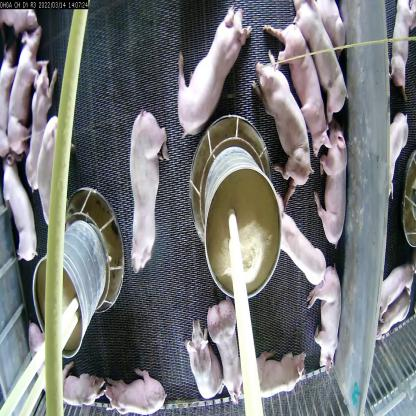Pig: (176, 0, 253, 137), (265, 10, 331, 154), (253, 41, 312, 188), (127, 96, 166, 280), (298, 0, 353, 119), (0, 154, 43, 268), (178, 306, 228, 404), (12, 24, 44, 148), (310, 257, 344, 373), (315, 124, 344, 240), (106, 365, 172, 415), (252, 344, 311, 399), (281, 205, 326, 276), (212, 293, 241, 392), (55, 357, 109, 408), (32, 61, 56, 169), (381, 250, 414, 310), (392, 0, 414, 82)
